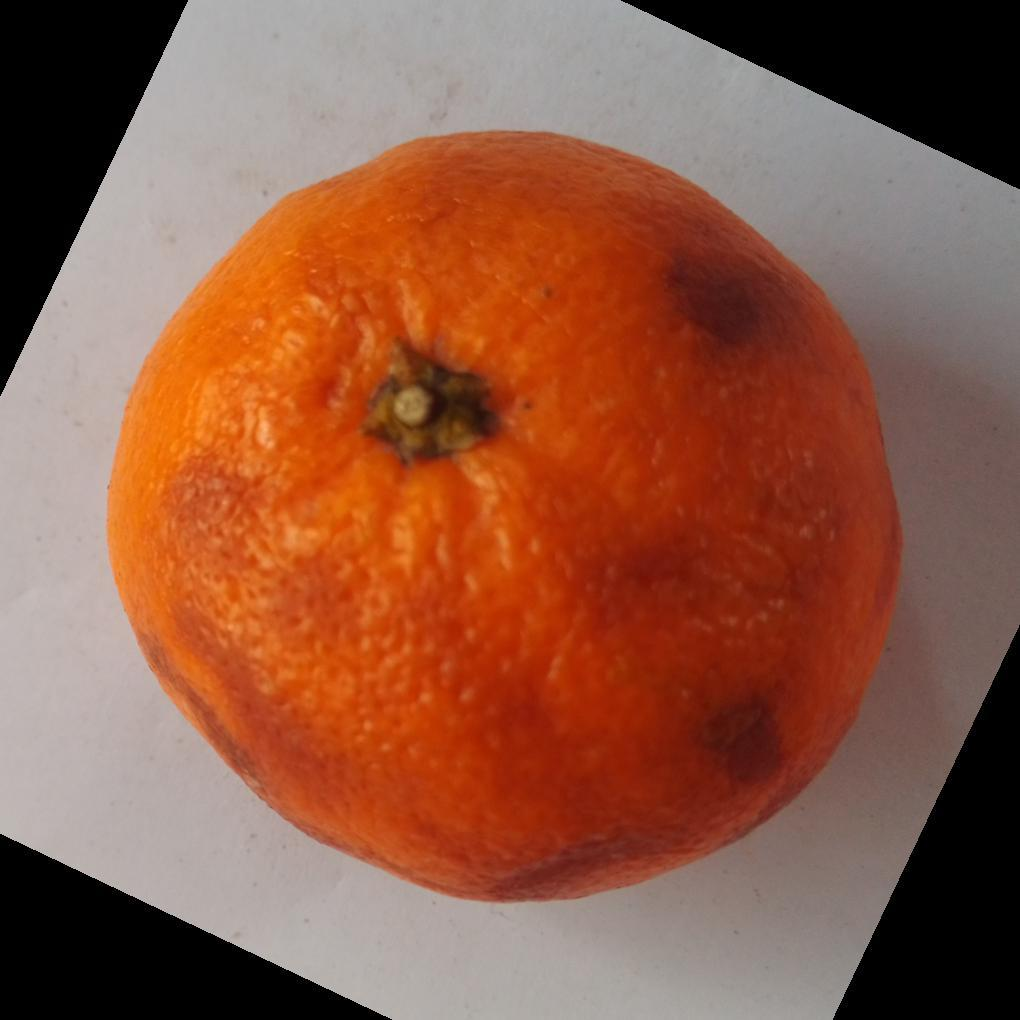FreshOrange: (104, 132, 902, 909)
